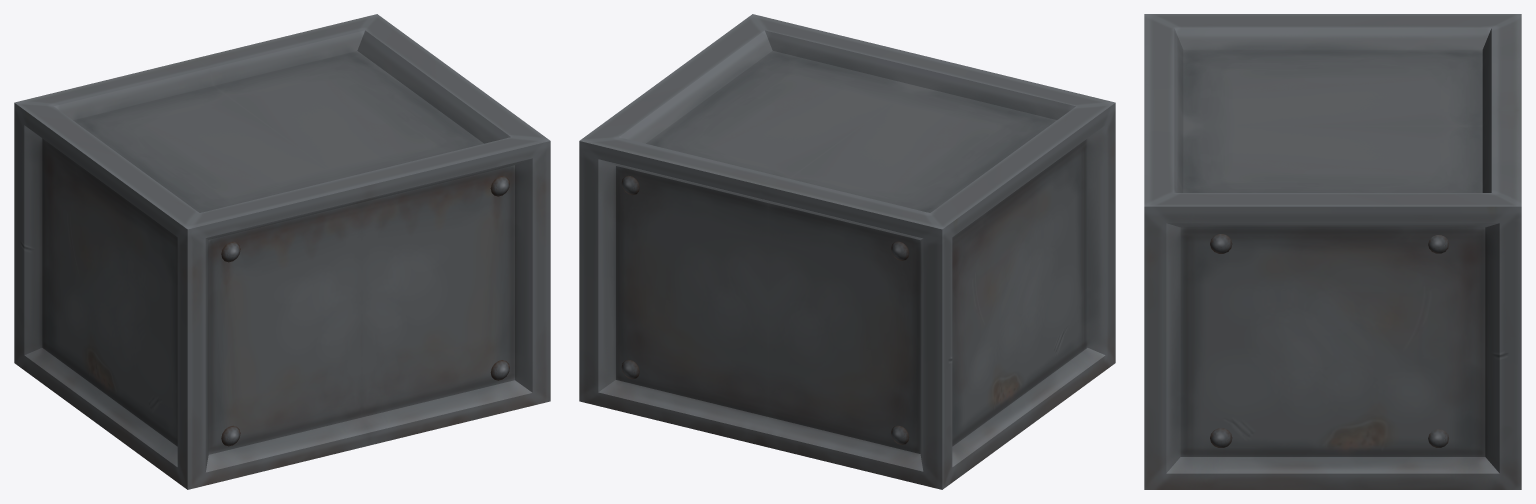
Rendered from SteelBox.fbx.
3 views of the same model, side by side, from view 1: azimuth 30°, elevation 25°; view 2: azimuth 150°, elevation 25°; view 3: azimuth 270°, elevation 25° (orthographic). The views are drawn at different scales.
Visible parts, largest first — view 1: SteelBox2; view 2: SteelBox2; view 3: SteelBox2.
Part boxes in pixels (<box>): SteelBox2: <box>14,14,550,489</box>; SteelBox2: <box>579,14,1115,489</box>; SteelBox2: <box>1144,14,1521,489</box>.
Bounding box in the file's own units: 99.03 × 67.89 × 81.93.
